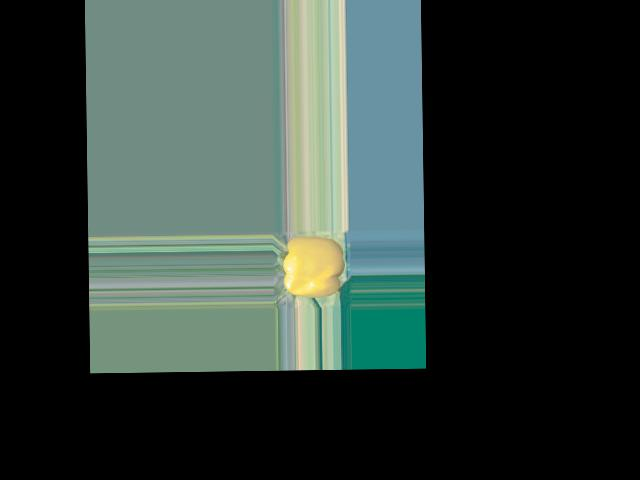bell_pepper: (277, 232, 345, 303)
